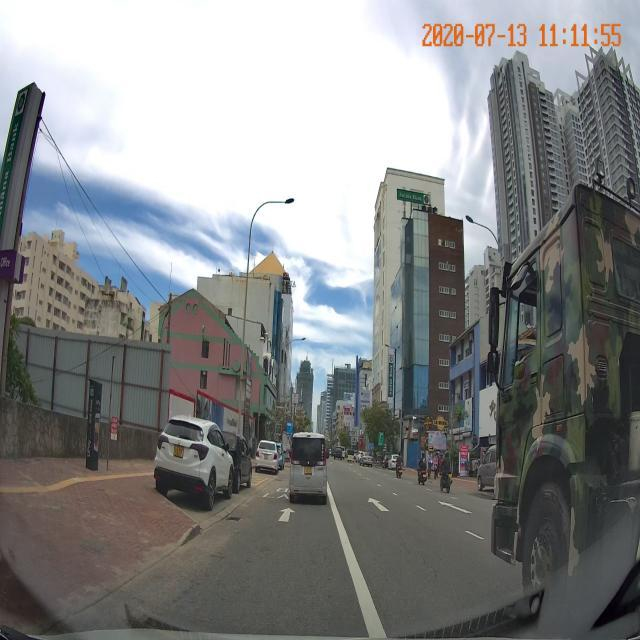forward: (228, 500, 356, 548)
